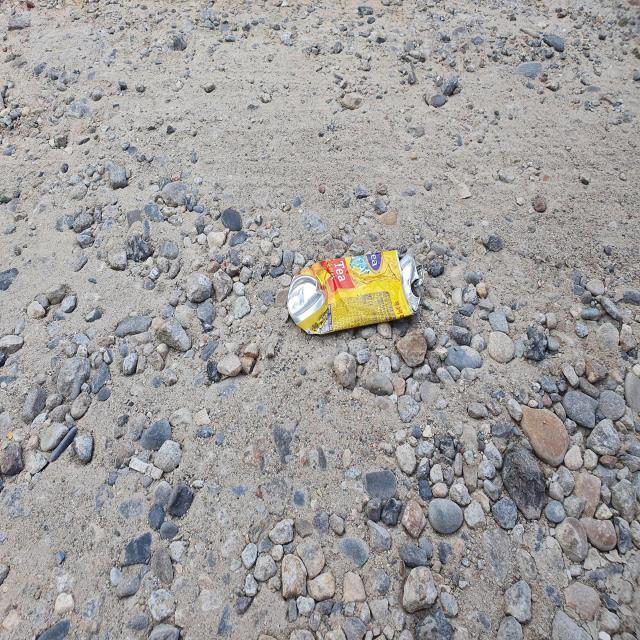can: (287, 249, 424, 334)
